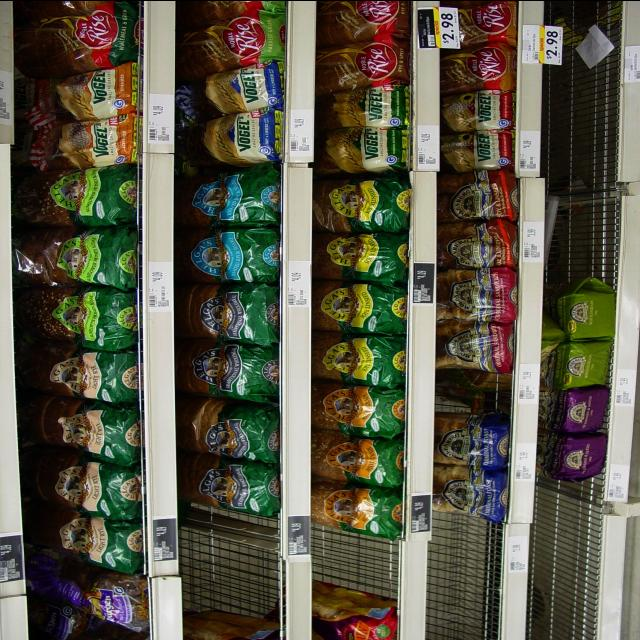empty_space: (557, 80, 615, 264), (550, 489, 603, 640), (430, 524, 493, 634), (193, 525, 267, 613), (331, 541, 392, 581), (565, 0, 615, 14)
